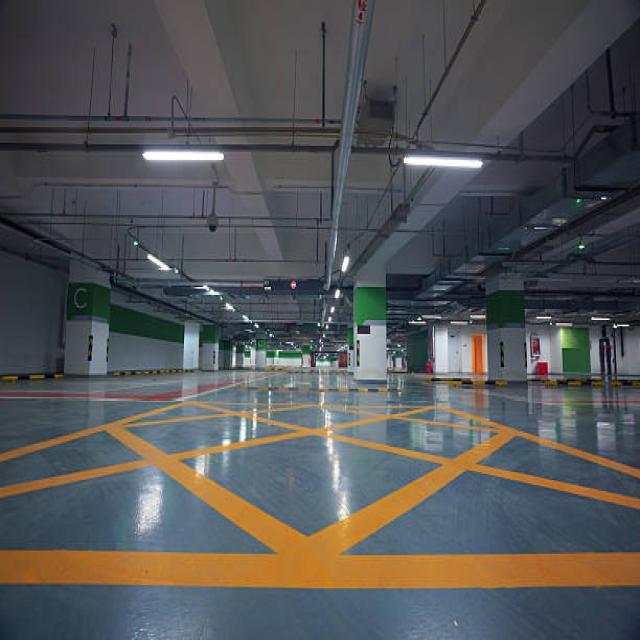tubelight_on: (142, 146, 228, 167), (399, 154, 484, 172), (140, 242, 180, 279), (197, 280, 227, 302), (334, 252, 352, 277), (446, 314, 471, 326), (329, 288, 349, 303), (420, 313, 448, 323), (552, 320, 580, 330), (226, 304, 246, 317), (530, 313, 554, 323), (612, 319, 632, 331), (592, 312, 608, 324), (408, 319, 430, 325), (467, 314, 489, 320)
